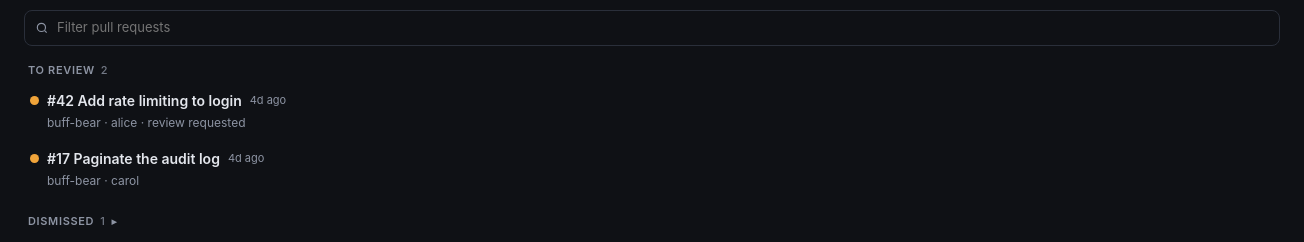
ReviewsList › filters by author
Type "carol" into the search field labelled "Filter pull requests". click: (663, 28)
box: x1=57 y1=11 x2=1269 y2=44
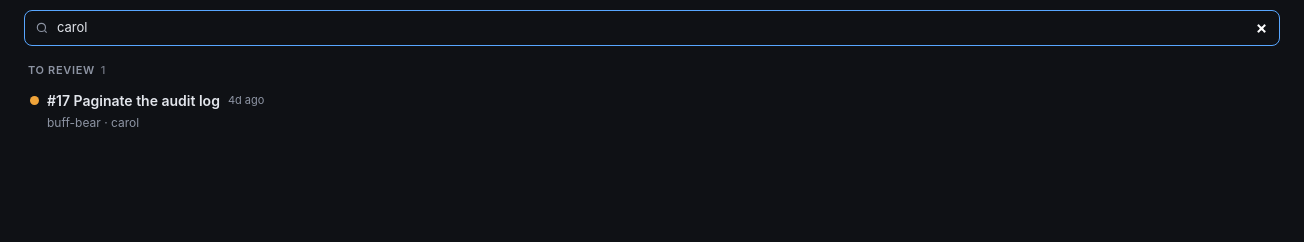
Expected: the text "#17 Paginate the audit log" is shown, x1=47 y1=90 x2=220 y2=111
Result: the button "#42 Add rate limiting to login" is gone
